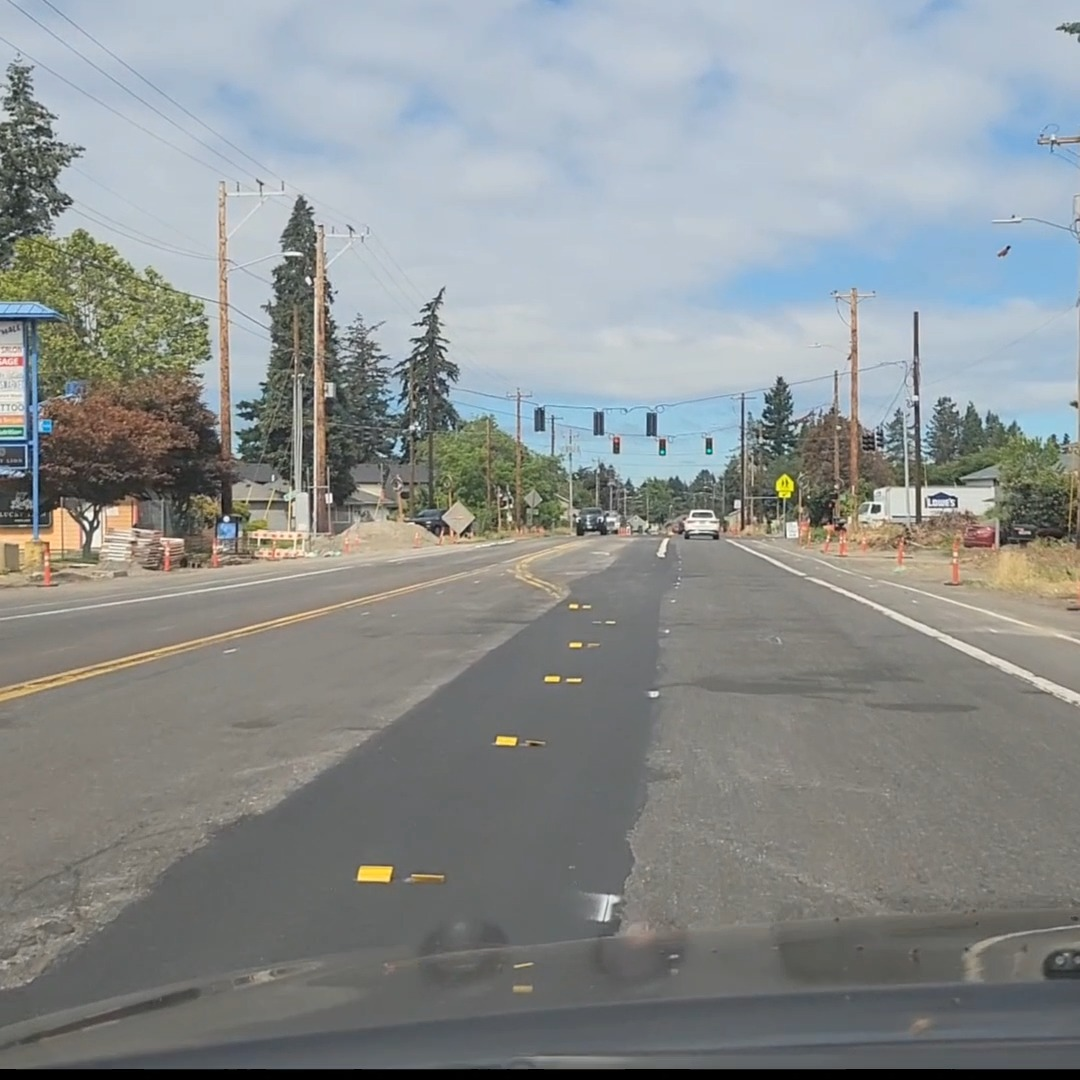car: (979, 512, 1069, 547), (405, 508, 452, 537), (681, 509, 721, 540), (576, 507, 605, 534), (603, 512, 620, 532)
crosswalk-sign: (775, 473, 794, 499)
delineator: (943, 538, 963, 585), (36, 544, 57, 586), (895, 534, 906, 571), (210, 540, 220, 567), (162, 541, 171, 571), (837, 530, 847, 556), (822, 528, 832, 552), (859, 531, 868, 551), (412, 530, 422, 547), (270, 542, 277, 559)
